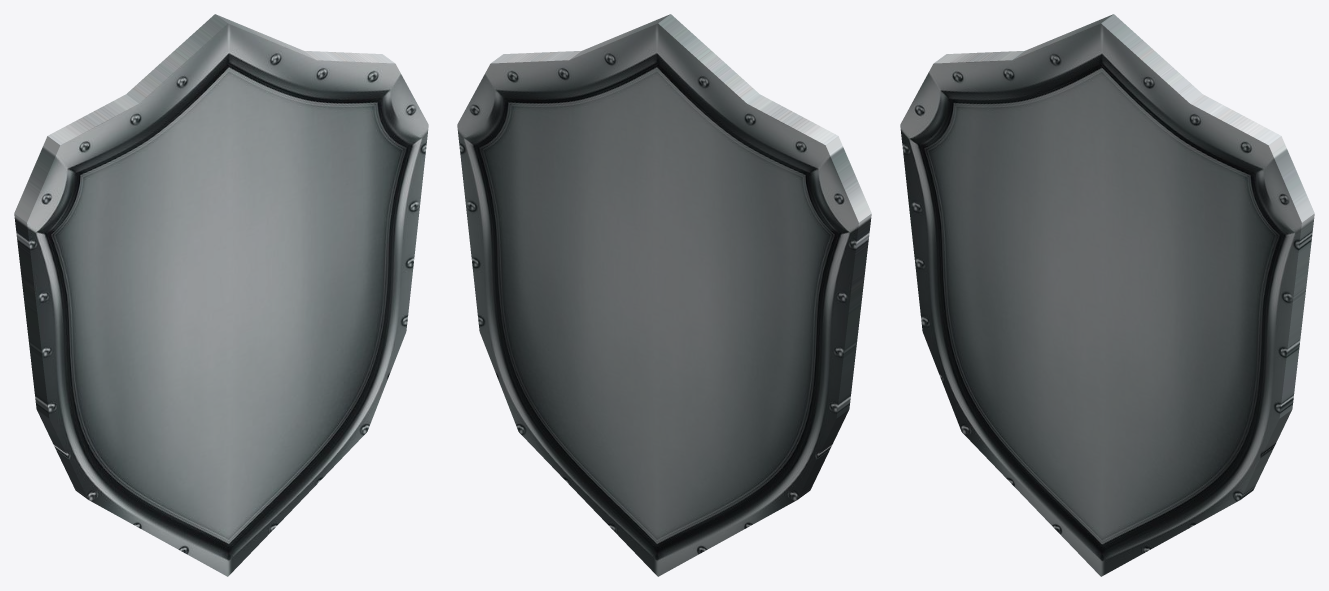
File: LifePickup.fbx
3 views of the same model, side by side, from view 1: azimuth 30°, elevation 25°; view 2: azimuth 150°, elevation 25°; view 3: azimuth 330°, elevation 25° (orthographic).
Parts seen in each view (by area): view 1: LifePickup; view 2: LifePickup; view 3: LifePickup.
Boxes of the visible parts, x1,y1,x2,y2 form: LifePickup: (14, 14, 428, 576); LifePickup: (457, 14, 871, 576); LifePickup: (900, 14, 1314, 576).
Size of the model in its own units: 765 by 1007 by 42.38.
